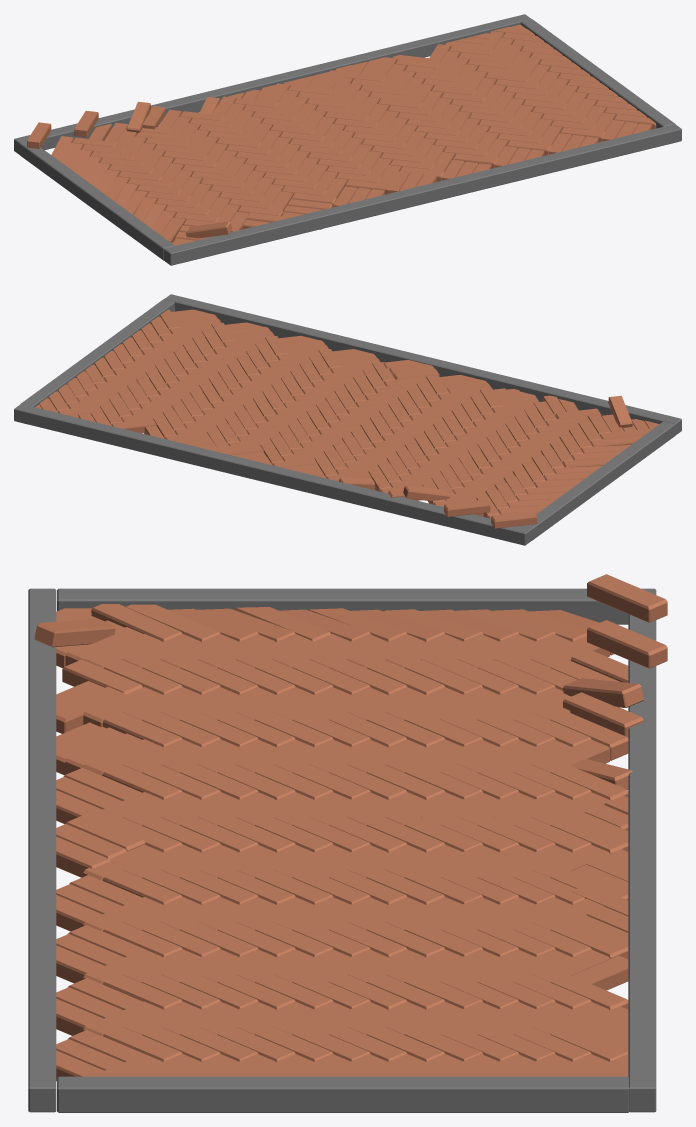
Rendered from trottoir_pave.fbx.
3 views of the same model, one above another, from view 1: azimuth 30°, elevation 25°; view 2: azimuth 150°, elevation 25°; view 3: azimuth 270°, elevation 25° (orthographic). The views are drawn at different scales.
Parts seen in each view (by area): view 1: polySurface477; view 2: polySurface477; view 3: polySurface477.
Part boxes in pixels (left/top/right/bottom): polySurface477: left=14, top=14, right=681, bottom=265; polySurface477: left=14, top=294, right=681, bottom=545; polySurface477: left=28, top=574, right=667, bottom=1112.
Bounding box in the file's own units: 42 × 1.94 × 22.7.
